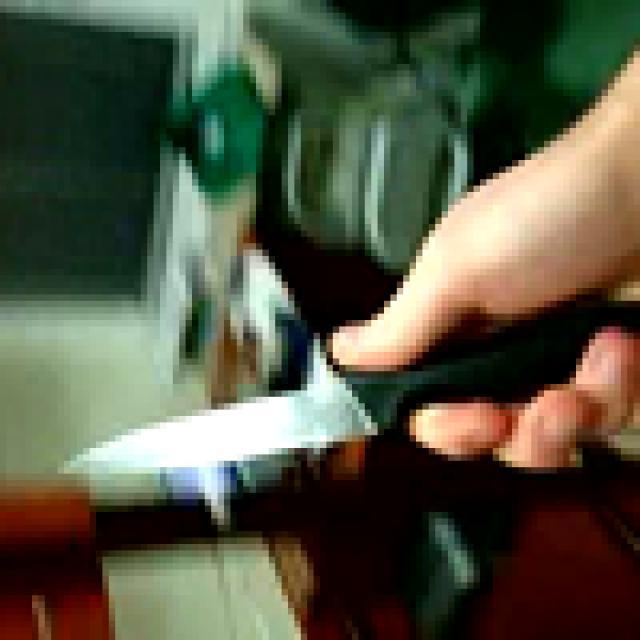Knife: (51, 294, 640, 506)
